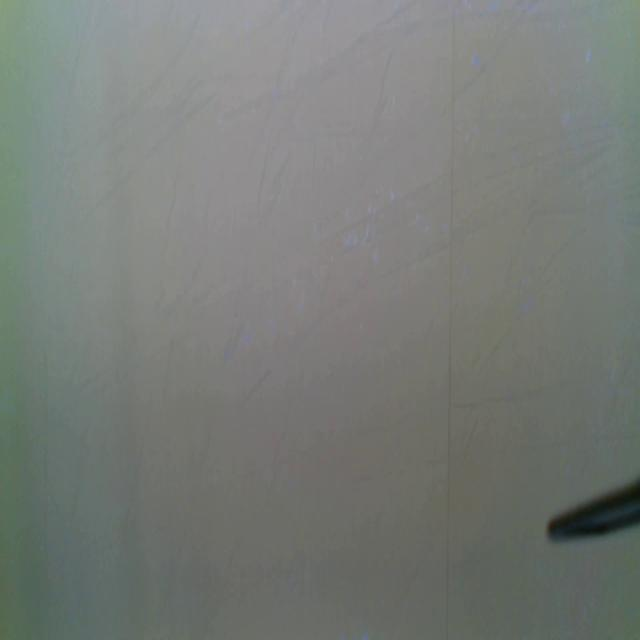crease: (444, 1, 458, 640)
